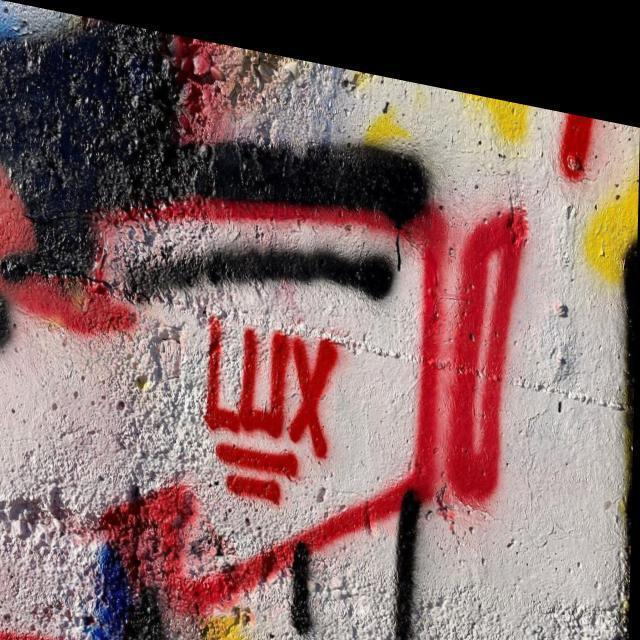nonspitting: (0, 165, 528, 617), (205, 312, 344, 507)
